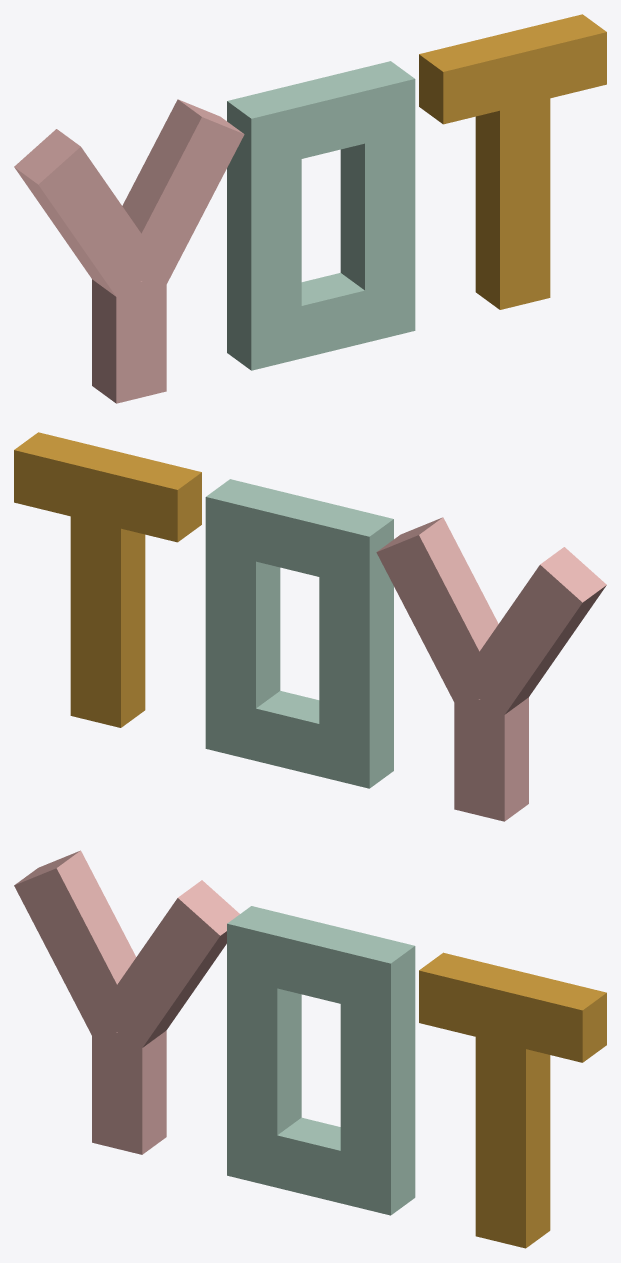
Rendered from SM_LPI_Kids_WallLetters_01.fbx.
3 views of the same model, one above another, from view 1: azimuth 30°, elevation 25°; view 2: azimuth 150°, elevation 25°; view 3: azimuth 330°, elevation 25° (orthographic).
Visible parts, largest first — view 1: SM_LPI_Kids_WallLetters_01; view 2: SM_LPI_Kids_WallLetters_01; view 3: SM_LPI_Kids_WallLetters_01.
Boxes of the visible parts, bbox=[...] form: SM_LPI_Kids_WallLetters_01: bbox=[14, 14, 606, 403]; SM_LPI_Kids_WallLetters_01: bbox=[14, 432, 606, 821]; SM_LPI_Kids_WallLetters_01: bbox=[14, 850, 606, 1248].
Bounding box in the file's own units: 0.5668 × 0.2532 × 0.042.
